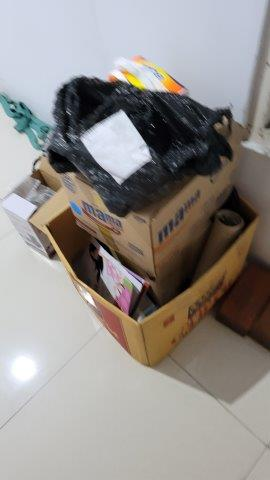kardus: (19, 154, 270, 368)
kertas: (82, 112, 151, 183)
